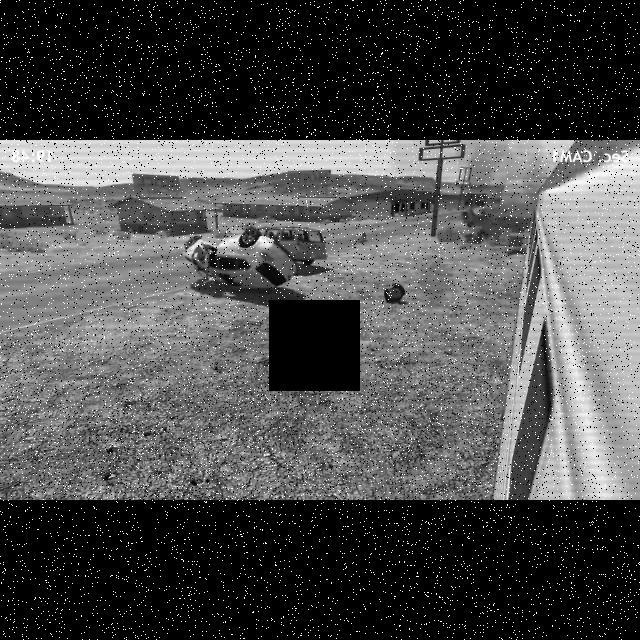severe: (180, 224, 328, 291)
